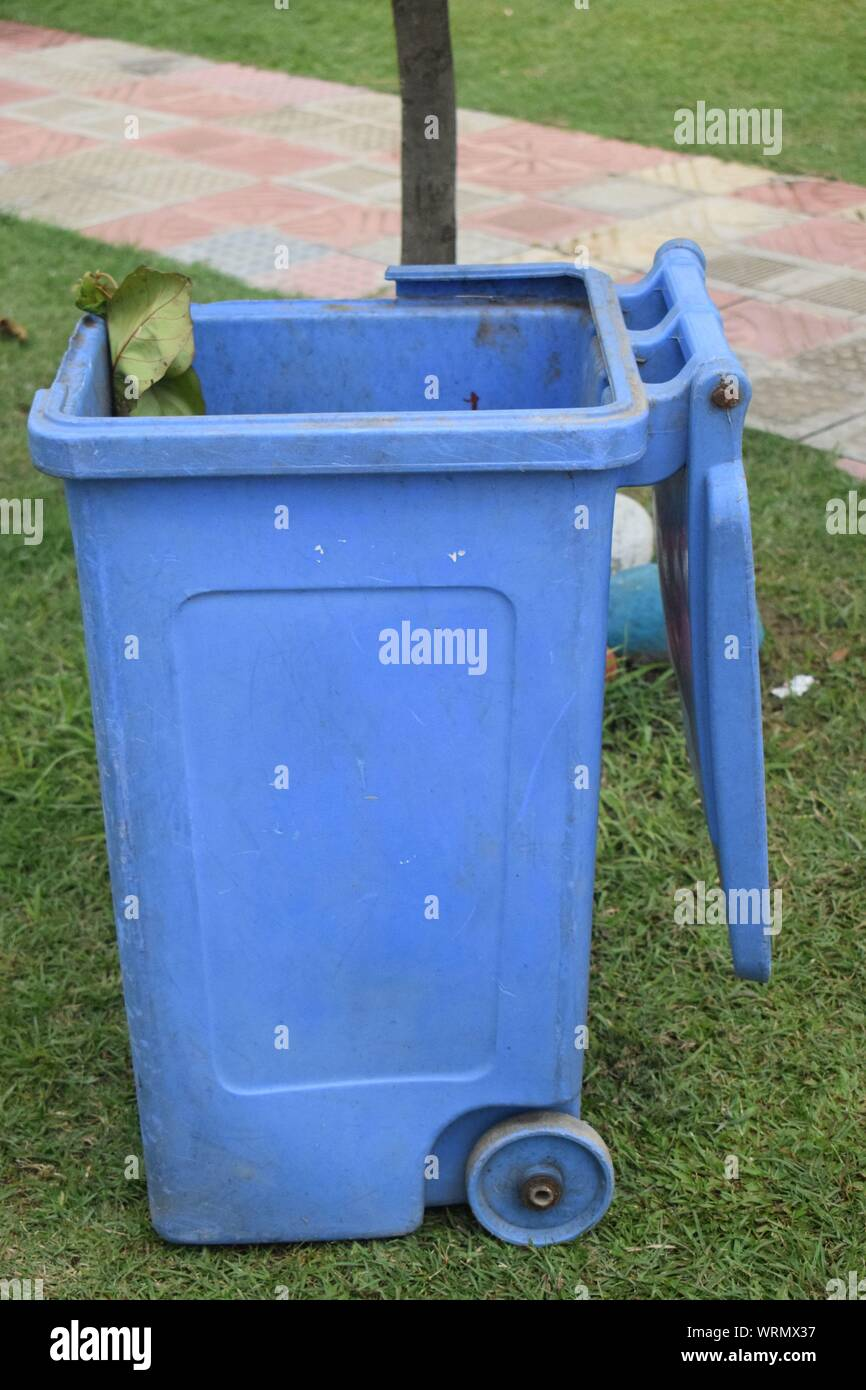empty: (26, 248, 746, 1247)
